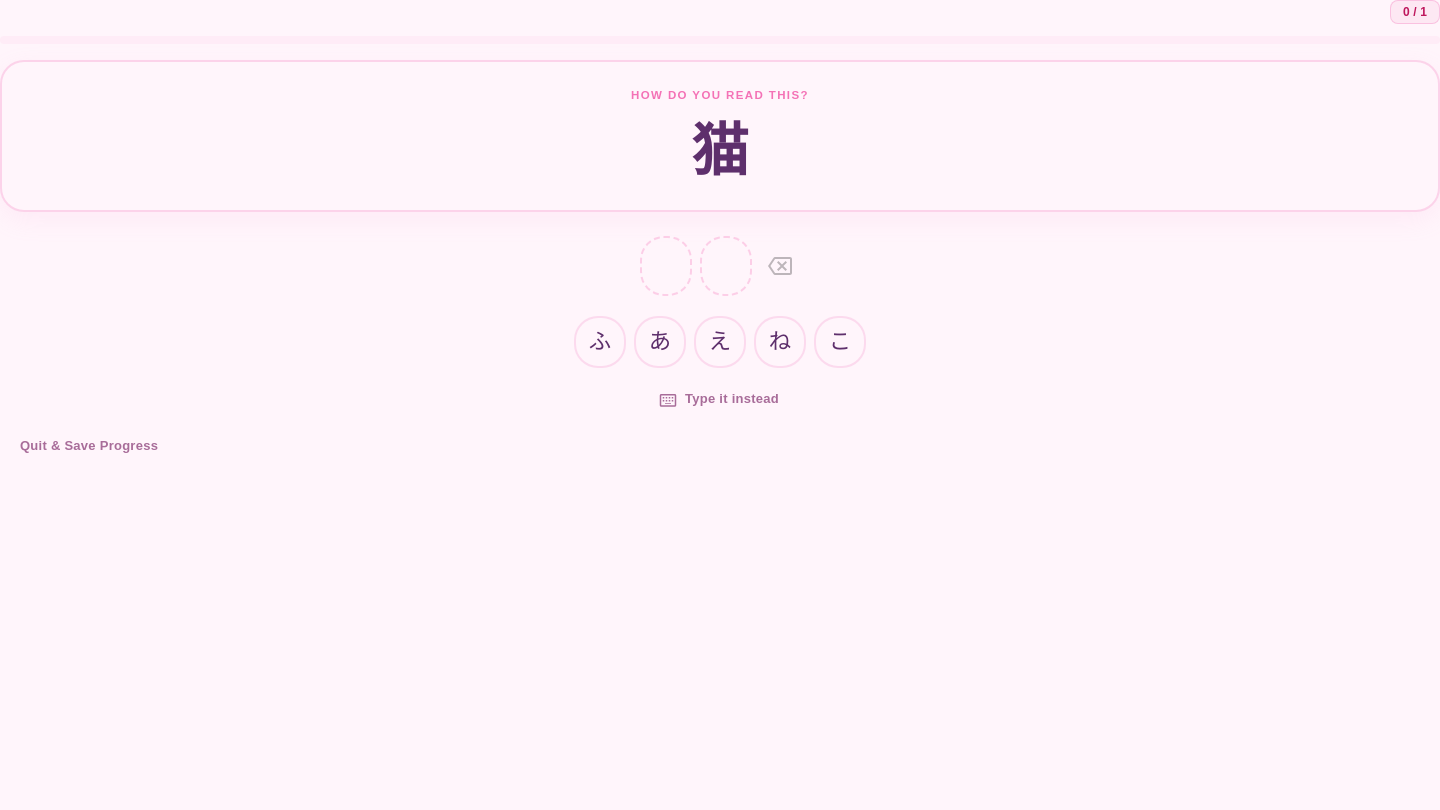
ReadingMode › grades an assembled tile answer as correct
Check: the text "猫" is shown, box [691, 120, 749, 183]
Click the button named "Add ね" at x=780, y=342, box [754, 316, 806, 368]
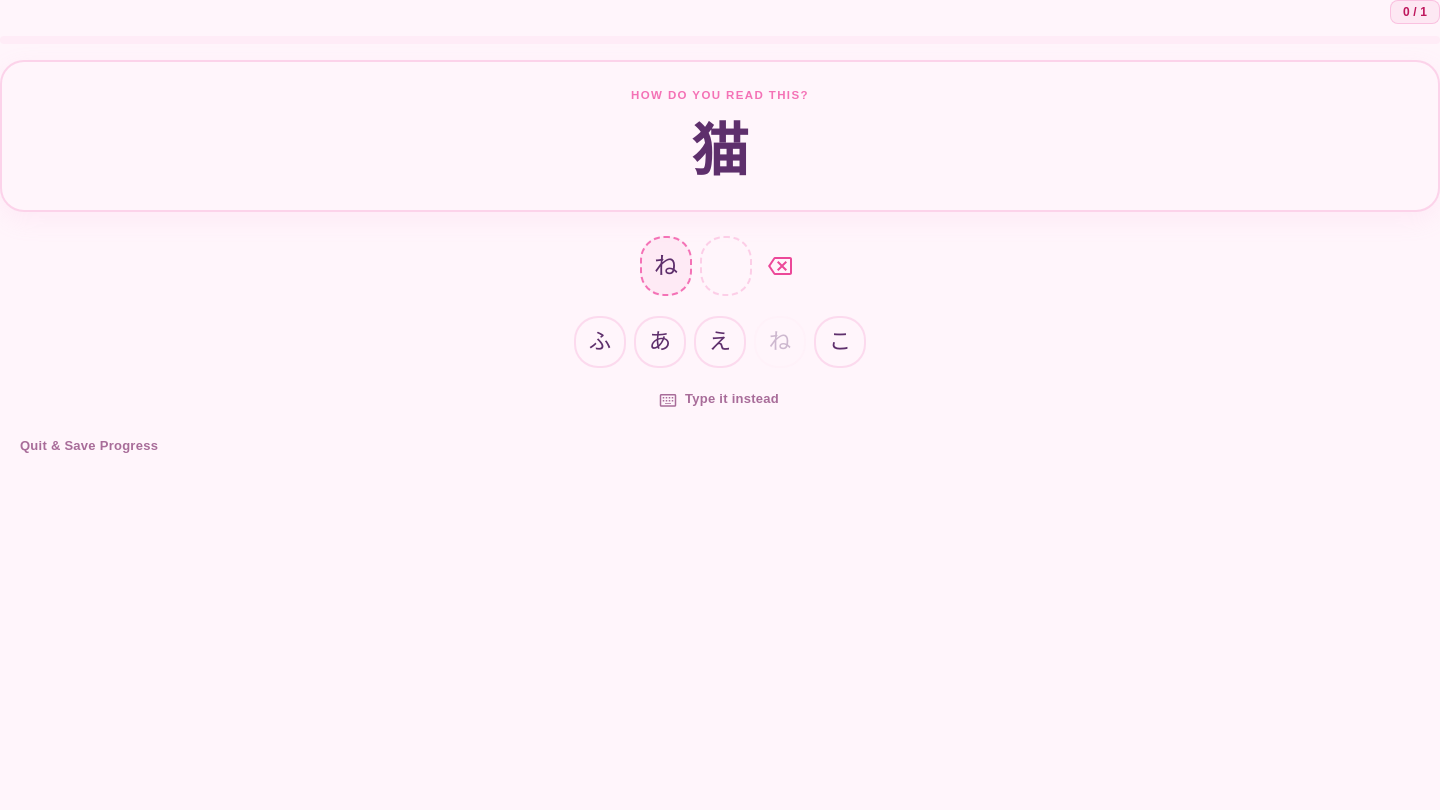
Click the button named "Add こ" at x=840, y=342, box [814, 316, 866, 368]
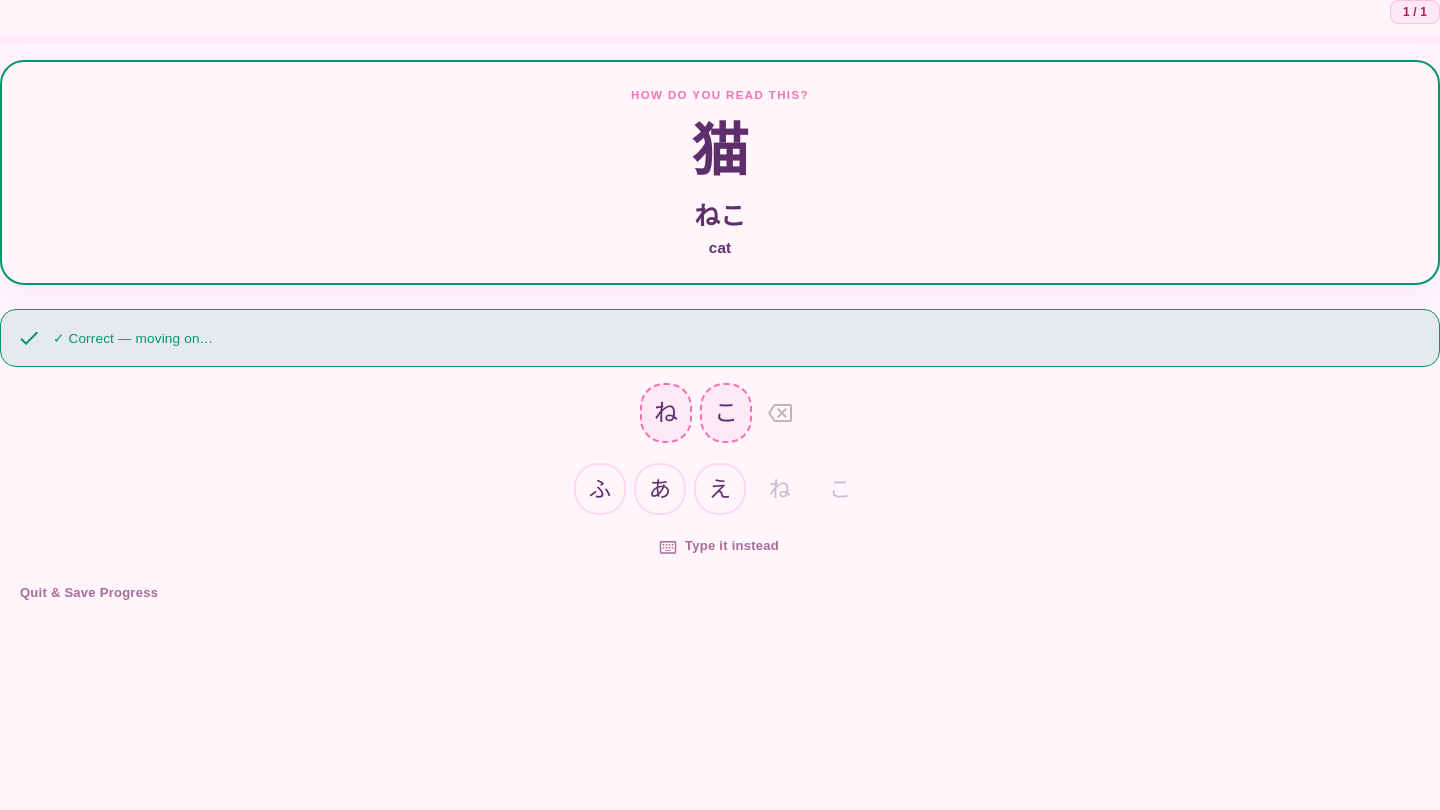
Check: the text "✓ Correct — moving on…" is shown, box [53, 331, 213, 346]
